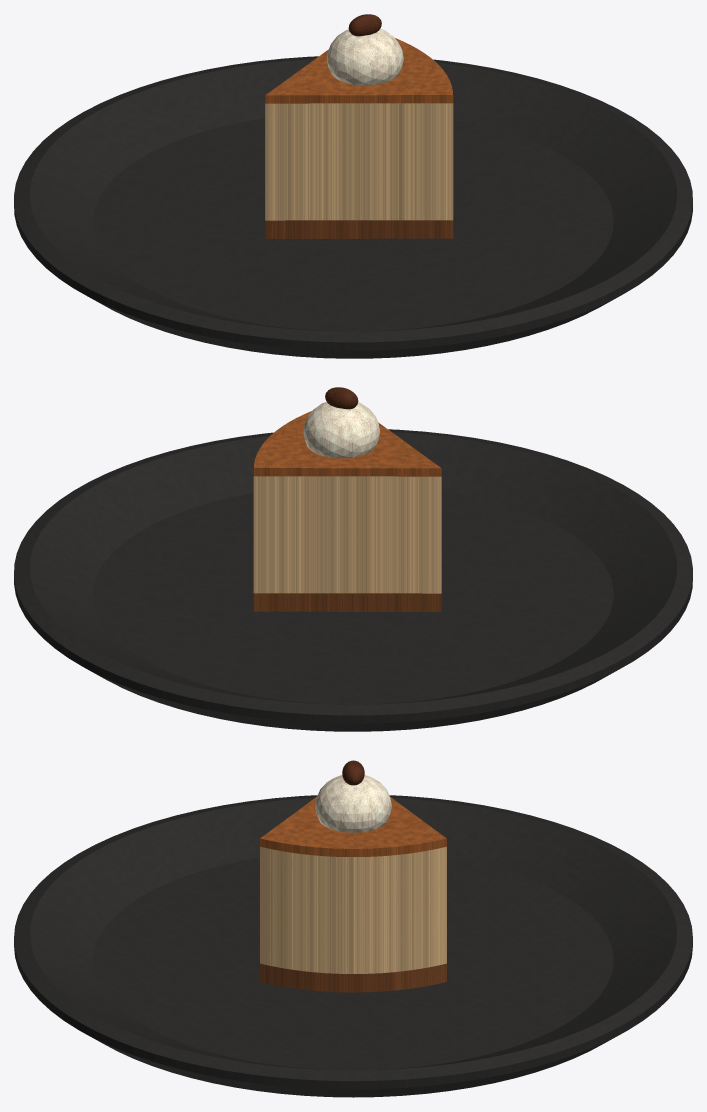
File: cheesecake-cafe.glb
3 views of the same model, one above another, from view 1: azimuth 30°, elevation 25°; view 2: azimuth 150°, elevation 25°; view 3: azimuth 270°, elevation 25° (orthographic).
Visible parts, largest first — view 1: part0, part2, part3, part1, part4, part5; view 2: part0, part2, part3, part1, part4, part5; view 3: part0, part2, part3, part1, part4.
Boxes of the visible parts, box(x1,y1,x2,y2) form: part0: box(14, 56, 692, 358); part2: box(265, 103, 453, 220); part3: box(265, 38, 453, 103); part1: box(265, 220, 453, 238); part4: box(327, 28, 403, 85); part5: box(348, 14, 381, 36); part0: box(14, 429, 692, 731); part2: box(253, 476, 441, 593); part3: box(253, 411, 441, 476); part1: box(253, 593, 441, 611); part4: box(303, 401, 379, 458); part5: box(325, 387, 358, 409); part0: box(14, 795, 692, 1097); part2: box(260, 846, 446, 973); part3: box(260, 797, 446, 856); part1: box(260, 963, 446, 992); part4: box(315, 775, 391, 832).
Size of the model in its own units: 0.3 by 0.111 by 0.3.
6 materials, 6 textured.
